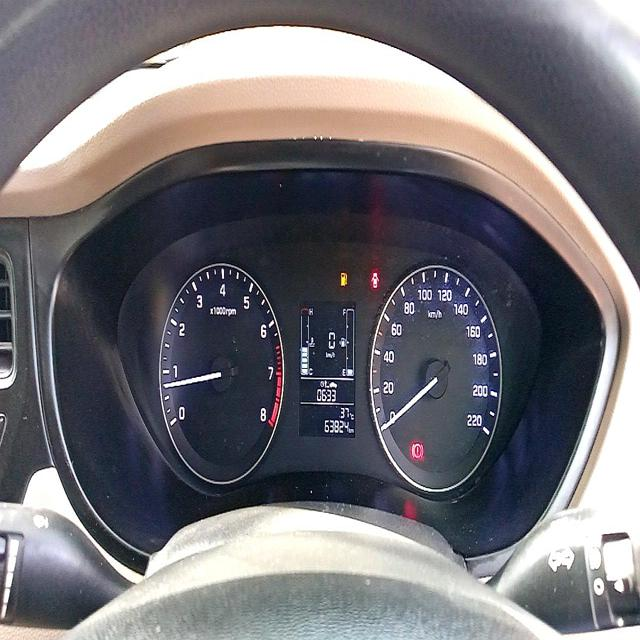odometer: (323, 417, 350, 436)
